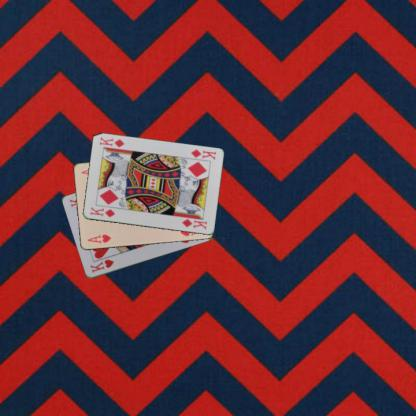Ah: (85, 232, 112, 245)
Kd: (88, 204, 116, 219), (188, 147, 218, 161)
Kh: (87, 257, 115, 274)
